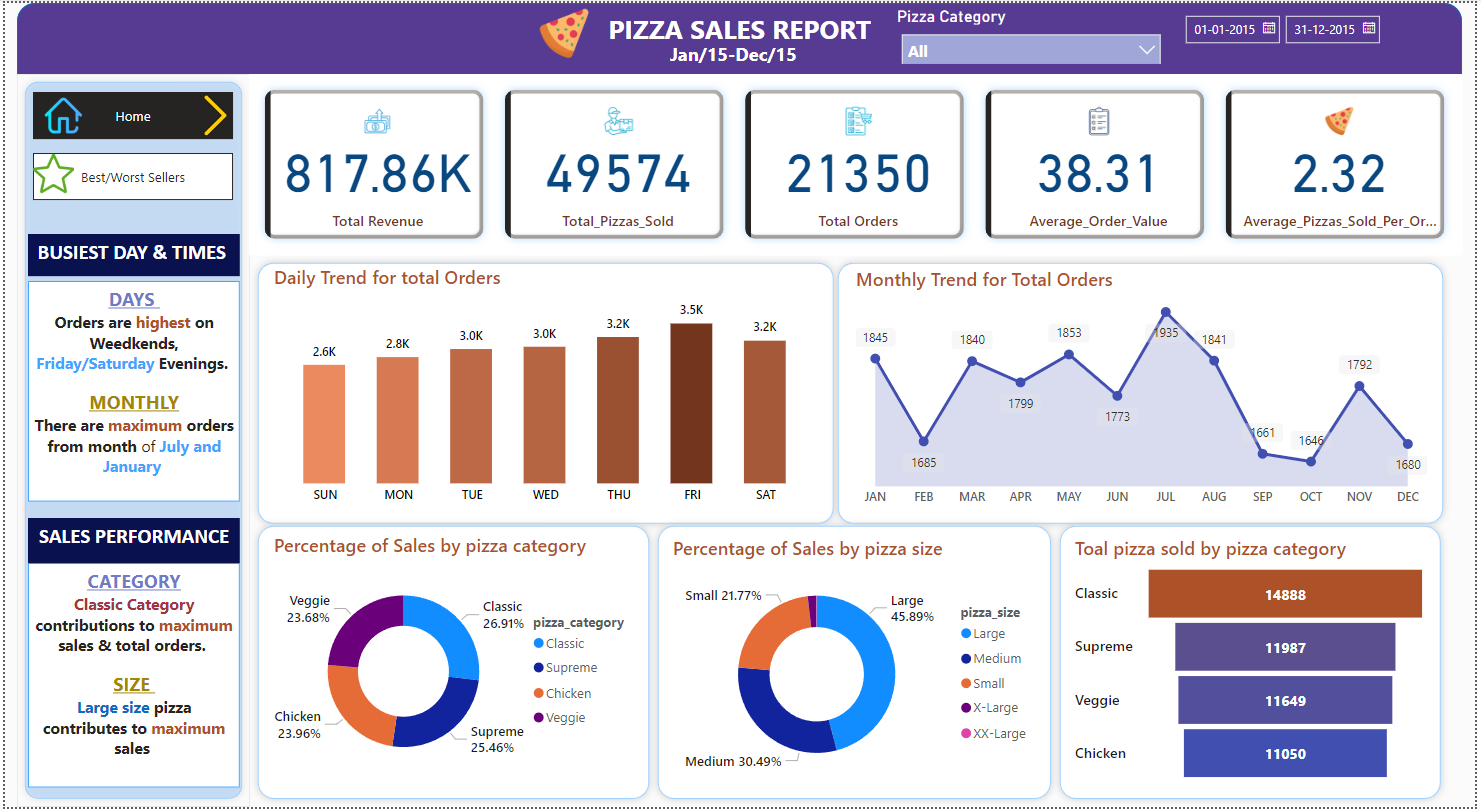

This screenshot's page, from the dashboard's own definition file:
{"tool":"powerbi","page":{"name":"Home ","canvas":[1500,820],"ordinal":0},"visuals":[{"type":"cardVisual","fields":{"Data":["pizza_sales pizza_sales.Total Revenue","pizza_sales pizza_sales.Total_Pizzas_Sold","pizza_sales pizza_sales.Total Orders","pizza_sales pizza_sales.Average_Order_Value","pizza_sales pizza_sales.Average_Pizzas_Sold_Per_Order"]},"box":[250.2,72.8,1236.8,182.8],"z":0},{"type":"shape","box":[12.5,0,1473.8,73.5],"z":1000},{"type":"textbox","box":[593.3,3.3,311.7,58.3],"z":2000},{"type":"textbox","box":[673.3,33.3,151.7,40],"z":3000},{"type":"image","box":[530,0,80,61.7],"z":4000},{"type":"shape","box":[250.2,257.3,603.3,282.1],"z":5000},{"type":"clusteredColumnChart","title":"Daily Trend for total Orders","fields":{"Category":["pizza_sales pizza_sales.Order Day"],"Y":["pizza_sales pizza_sales.Total Orders"]},"box":[269.7,266.2,564.3,253.7],"z":6000},{"type":"shape","box":[841.1,257.3,633.5,282.1],"z":7000},{"type":"areaChart","title":"Monthly Trend for Total Orders","fields":{"Y":["pizza_sales pizza_sales.Total Orders"],"Category":["pizza_sales pizza_sales.Order_Month"]},"box":[862.4,267.9,592.7,253.7],"z":8000},{"type":"shape","box":[250.2,525.2,415.2,294.6],"z":9000},{"type":"shape","box":[658.3,525.2,417,294.6],"z":10000},{"type":"shape","box":[1068.2,525.2,404.6,294.6],"z":11000},{"type":"donutChart","title":"Percentage of Sales by pizza category","fields":{"Category":["pizza_sales pizza_sales.pizza_category"],"Y":["pizza_sales pizza_sales.Total Revenue"]},"box":[269.7,539.4,383.3,259.1],"z":12000},{"type":"donutChart","title":"Percentage of Sales by pizza size","fields":{"Y":["pizza_sales pizza_sales.Total Revenue"],"Category":["pizza_sales pizza_sales.pizza_size"]},"box":[676.1,543,383.3,259.1],"z":13000},{"type":"funnel","title":"Toal pizza sold by pizza  category","fields":{"Category":["pizza_sales pizza_sales.pizza_category"],"Y":["pizza_sales pizza_sales.Total_Pizzas_Sold"]},"box":[1086,543,369.1,257.3],"z":14000},{"type":"shape","box":[12.4,72.8,237.8,747],"z":15000},{"type":"textbox","box":[23.1,236,216.5,42.6],"z":16000},{"type":"textbox","box":[23.1,283.9,216.5,225.4],"z":17000},{"type":"cardVisual","fields":{"Data":["pizza_sales pizza_sales.Total Revenue","pizza_sales pizza_sales.Total_Pizzas_Sold","pizza_sales pizza_sales.Total Orders","pizza_sales pizza_sales.Average_Order_Value","pizza_sales pizza_sales.Average_Pizzas_Sold_Per_Order"]},"box":[248.4,72.8,1236.8,184.5],"z":18000},{"type":"textbox","box":[23.1,571.4,216.5,228.9],"z":19000},{"type":"textbox","box":[23.1,525.2,216.5,46.1],"z":20000},{"type":"slicer","title":"Pizza Category","fields":{"Values":["pizza_sales pizza_sales.pizza_category"]},"box":[905,3.5,283.9,58.6],"z":21000},{"type":"slicer","title":"Pizza Category","fields":{"Values":["pizza_sales pizza_sales.order_date"]},"box":[1191,3.1,220.4,71.9],"z":22000},{"type":"pageNavigator","box":[28.1,90.6,204.7,48.5],"z":23000},{"type":"pageNavigator","box":[28.1,153.2,204.7,48.5],"z":24000},{"type":"image","box":[189.1,86,51.6,57.8],"z":25000},{"type":"image","box":[28.1,90.6,62.5,48.5],"z":25001},{"type":"image","box":[23.4,146.9,51.6,54.7],"z":25002}]}

Visuals, with their boxes in screenshot pixels (x1, y1, x2, y2), scaled from the page's 1500x820 canvas onto the 1481x809 screenshot:
cardVisual - pizza_sales pizza_sales.Total Revenue x pizza_sales pizza_sales.Total_Pizzas_Sold: l=247, t=72, r=1468, b=252
shape: l=12, t=0, r=1467, b=73
textbox: l=586, t=3, r=894, b=61
textbox: l=665, t=33, r=815, b=72
image: l=523, t=0, r=602, b=61
shape: l=247, t=254, r=843, b=532
"Daily Trend for total Orders" clusteredColumnChart: l=266, t=263, r=823, b=513
shape: l=830, t=254, r=1456, b=532
"Monthly Trend for Total Orders" areaChart: l=851, t=264, r=1437, b=515
shape: l=247, t=518, r=657, b=808
shape: l=650, t=518, r=1062, b=808
shape: l=1055, t=518, r=1454, b=808
"Percentage of Sales by pizza category" donutChart: l=266, t=532, r=645, b=788
"Percentage of Sales by pizza size" donutChart: l=668, t=536, r=1046, b=791
"Toal pizza sold by pizza  category" funnel: l=1072, t=536, r=1437, b=790
shape: l=12, t=72, r=247, b=808
textbox: l=23, t=233, r=237, b=275
textbox: l=23, t=280, r=237, b=502
cardVisual - pizza_sales pizza_sales.Total Revenue x pizza_sales pizza_sales.Total_Pizzas_Sold: l=245, t=72, r=1466, b=254
textbox: l=23, t=564, r=237, b=790
textbox: l=23, t=518, r=237, b=564
"Pizza Category" slicer: l=894, t=3, r=1174, b=61
"Pizza Category" slicer: l=1176, t=3, r=1394, b=74
pageNavigator: l=28, t=89, r=230, b=137
pageNavigator: l=28, t=151, r=230, b=199
image: l=187, t=85, r=238, b=142
image: l=28, t=89, r=89, b=137
image: l=23, t=145, r=74, b=199
